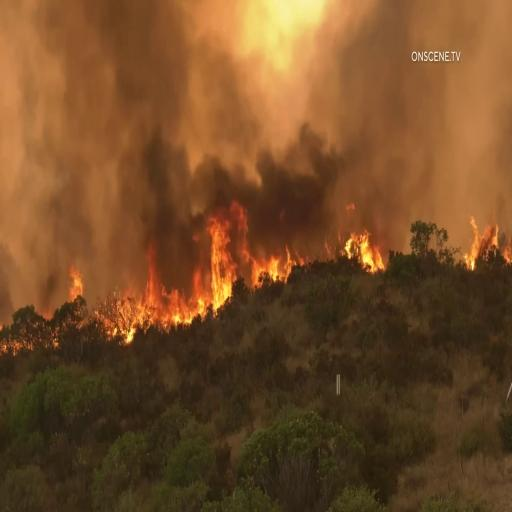fire: (82, 250, 185, 331), (198, 206, 262, 308), (342, 221, 392, 274)
smoke: (81, 11, 383, 203)
